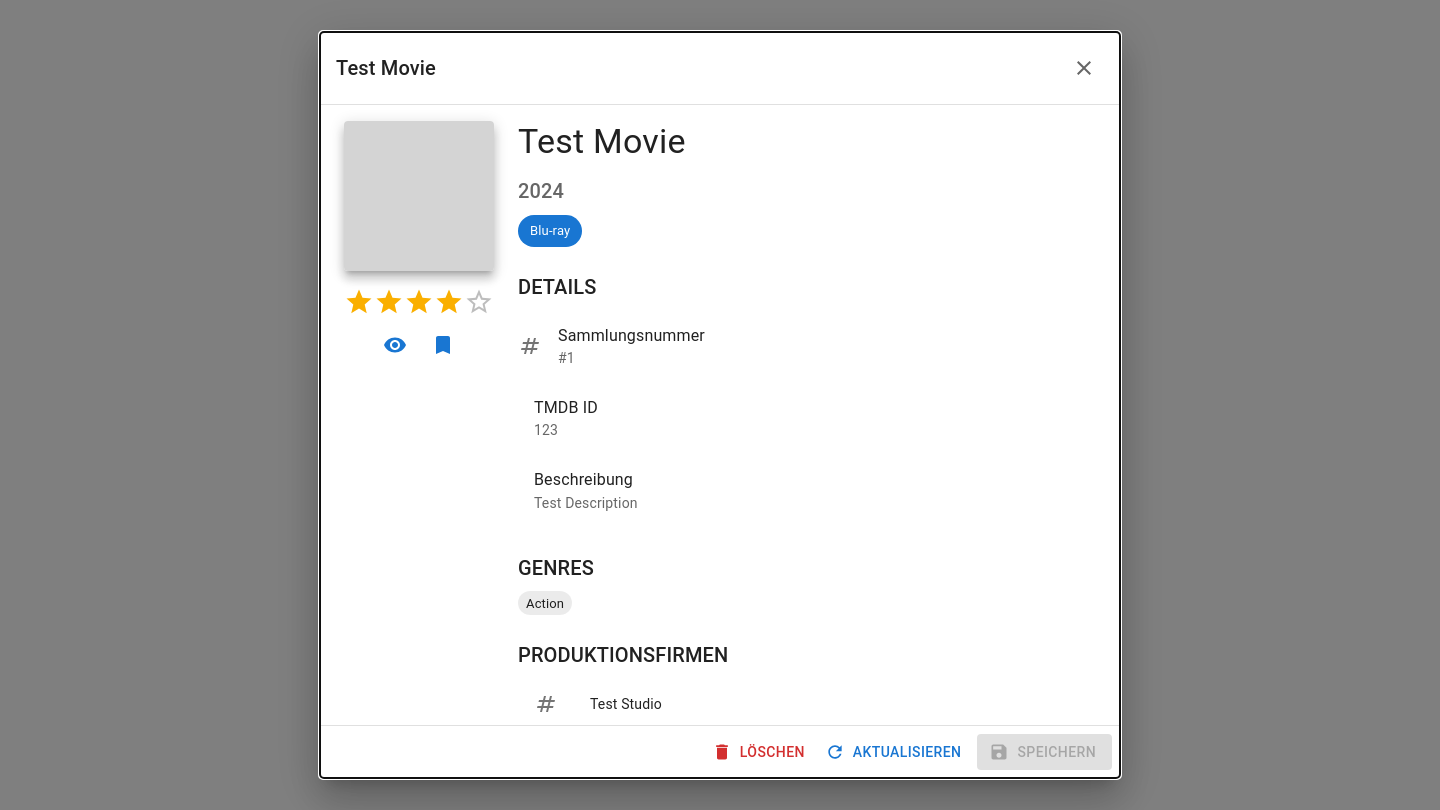
Test: MovieDialog › aktualisiert einen Film von TMDB
Click the button "Aktualisieren".
click(895, 752)  # box [821,734,969,770]
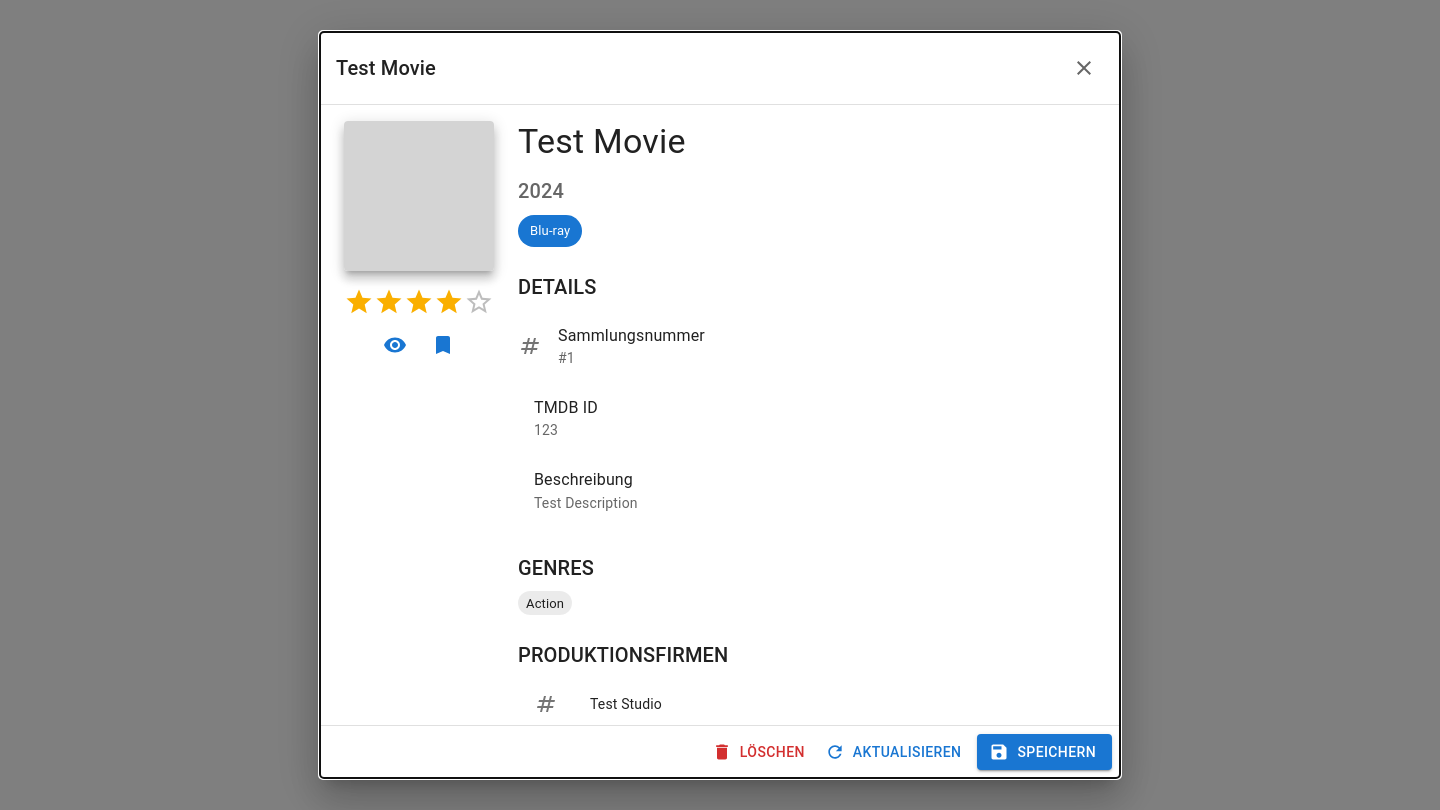
Check: the button "Speichern" is enabled, box [977,734,1112,770]
